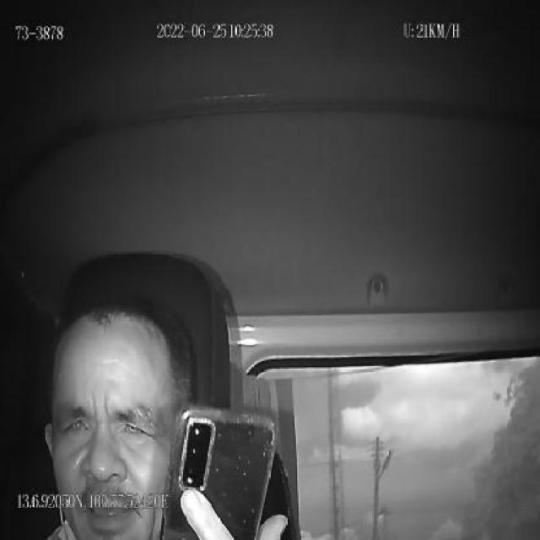phone: (162, 405, 277, 540)
